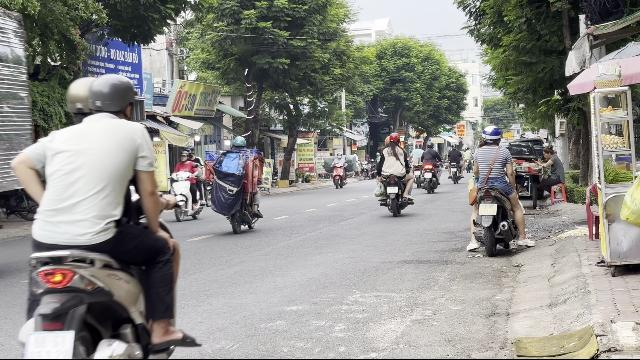helmet: (88, 73, 136, 119), (63, 75, 97, 123), (481, 126, 502, 144), (230, 136, 246, 148)
licenseplate: (26, 331, 72, 357), (479, 205, 497, 215)
motorcyclist: (6, 72, 190, 356), (464, 124, 528, 256), (210, 134, 266, 232)
